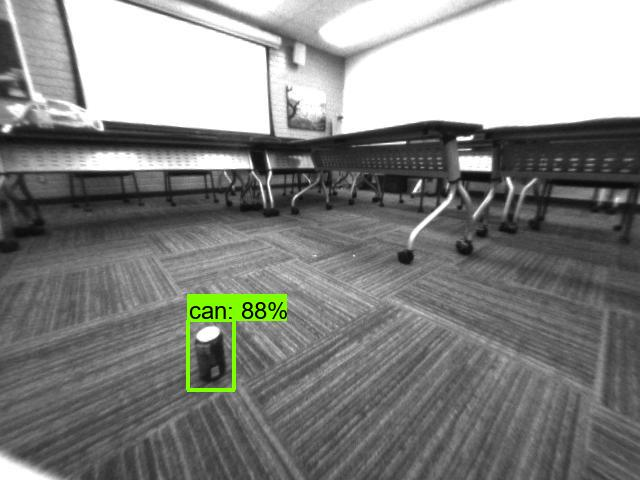can: (189, 321, 230, 389)
